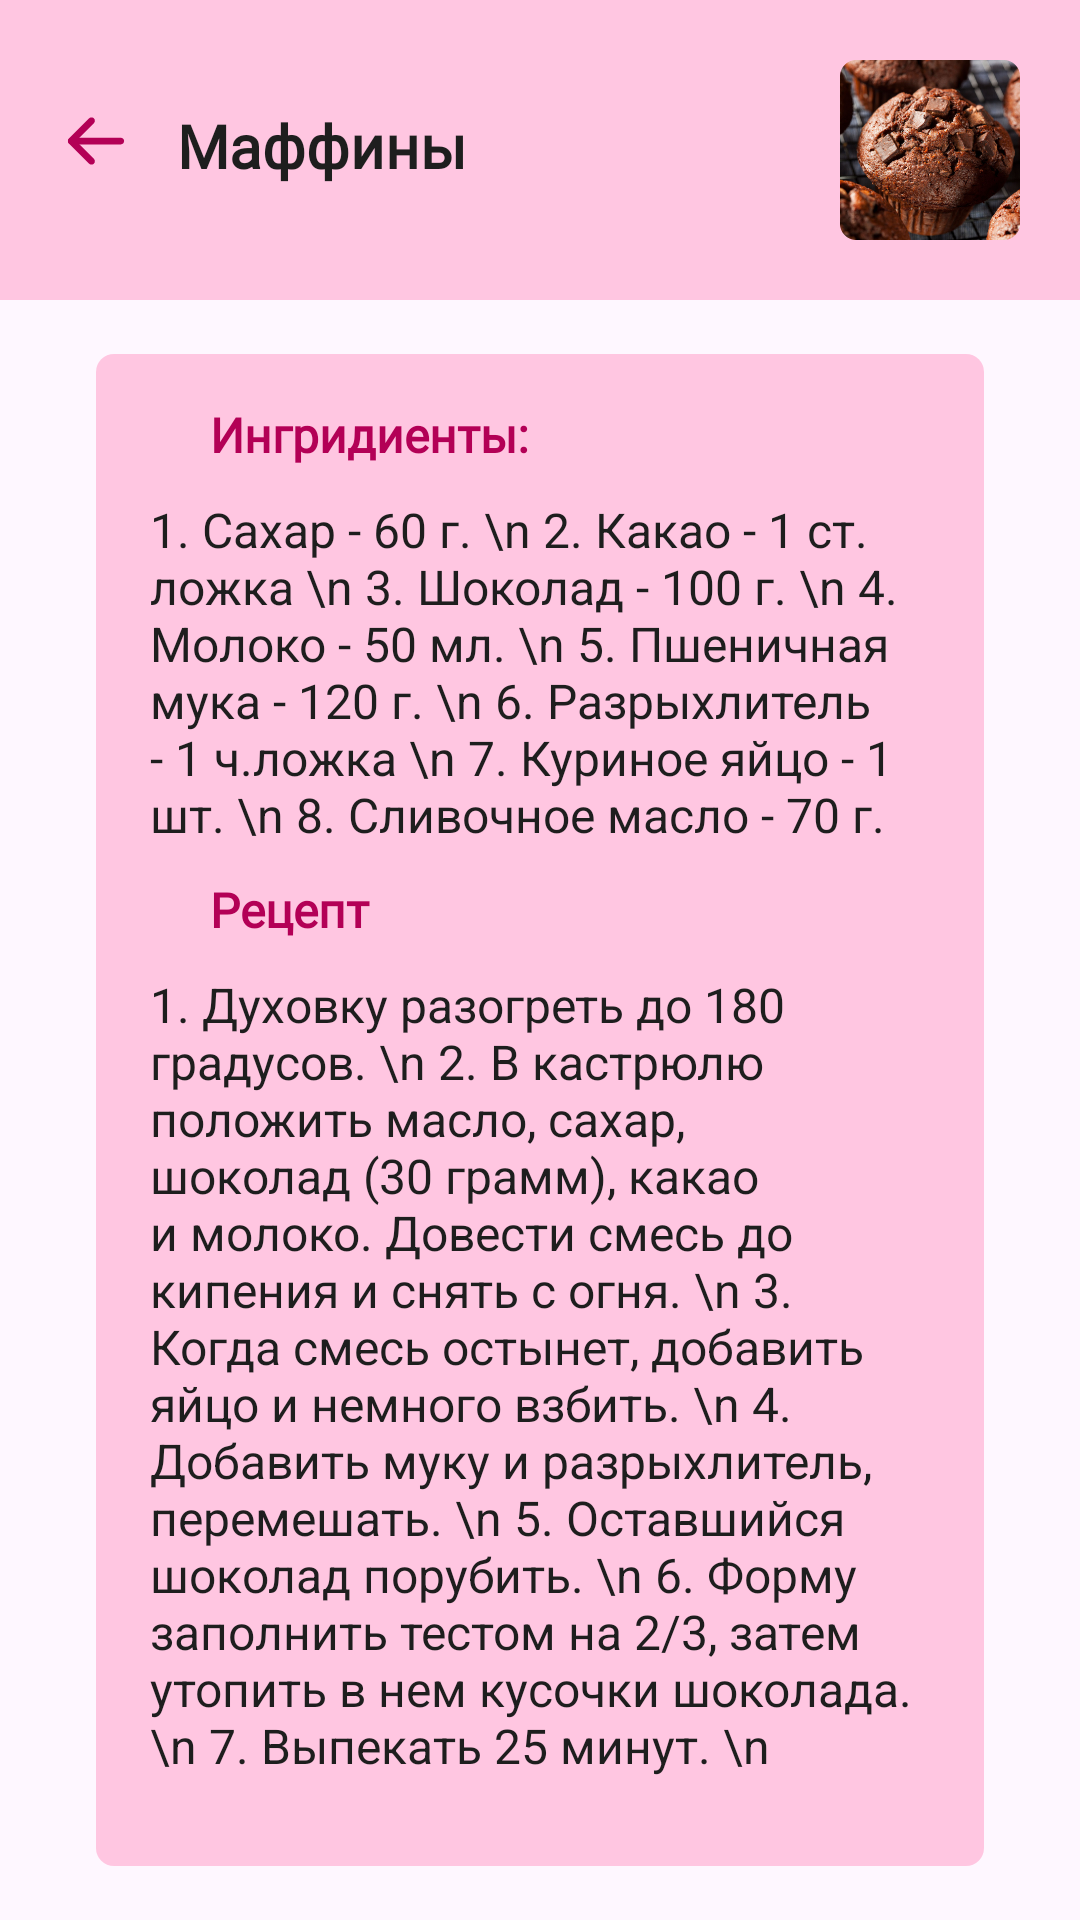

Icons on this 1080px x 1920px Android screen, each with its box as (x1, y1, x2, y2):
second back: (68, 117, 124, 165)
